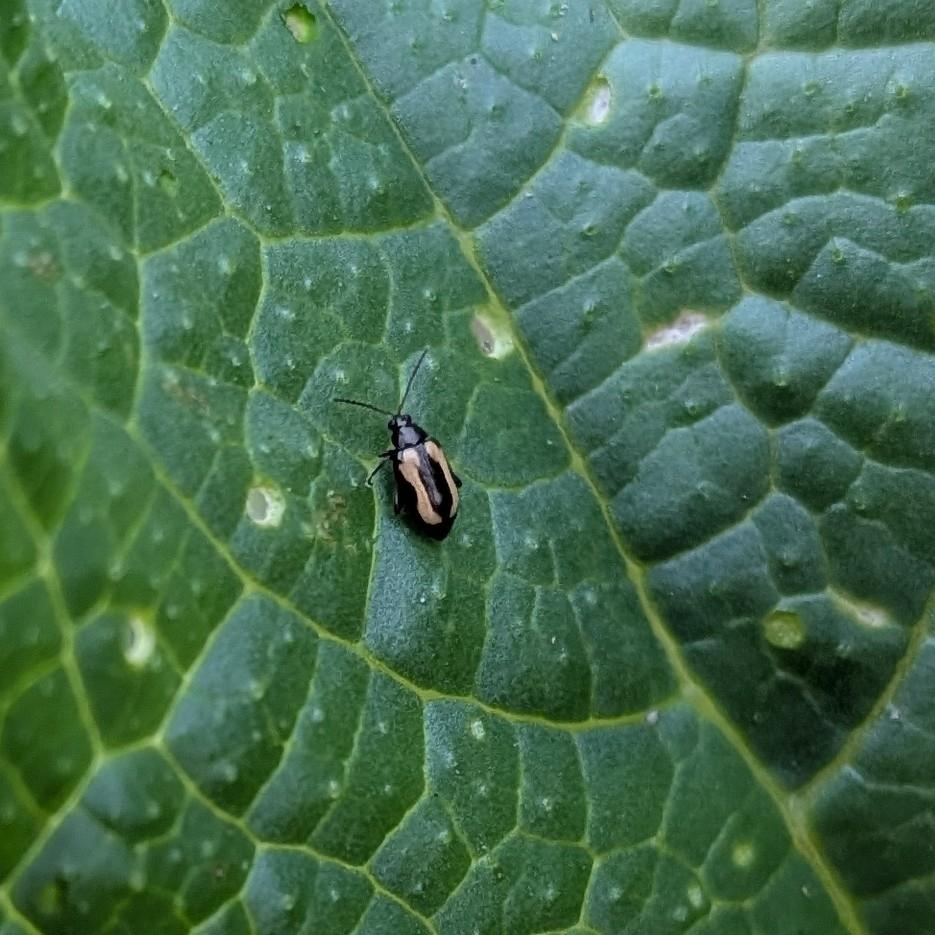flea_beetle: (303, 330, 519, 575)
